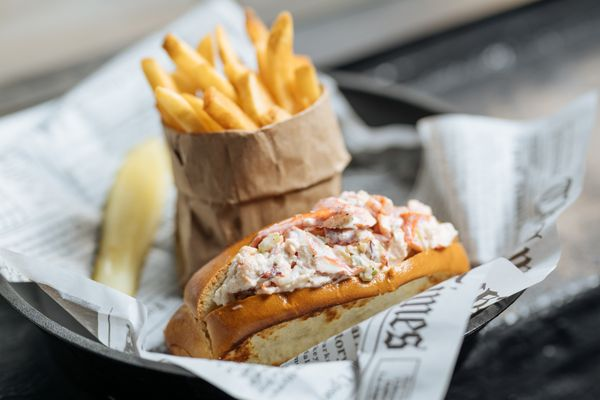soup: (162, 189, 471, 365)
